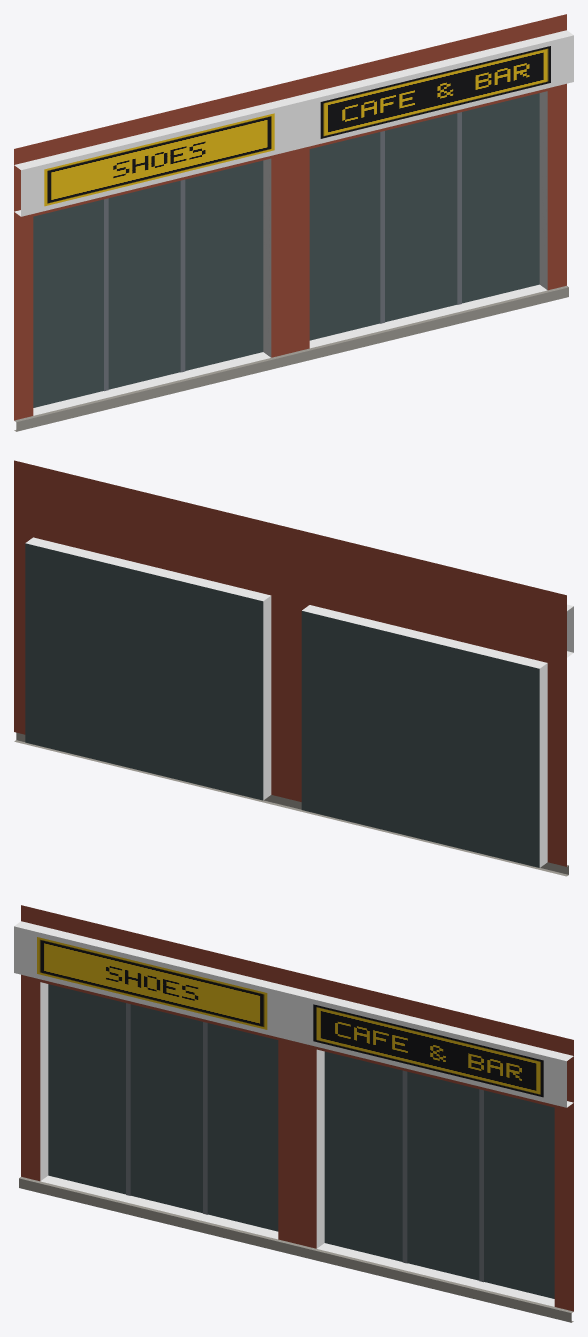
3 views of the same model, one above another, from view 1: azimuth 30°, elevation 25°; view 2: azimuth 150°, elevation 25°; view 3: azimuth 330°, elevation 25° (orthographic).
Visible parts, largest first — view 1: a2009/600/base-w2; view 2: a2009/600/base-w2; view 3: a2009/600/base-w2.
Boxes of the visible parts, x1,y1,x2,y2 form: a2009/600/base-w2: (14,14,573,431); a2009/600/base-w2: (14,460,573,876); a2009/600/base-w2: (14,905,573,1322).
Bounding box in the file's own units: 7.2 × 3.5 × 0.342.
